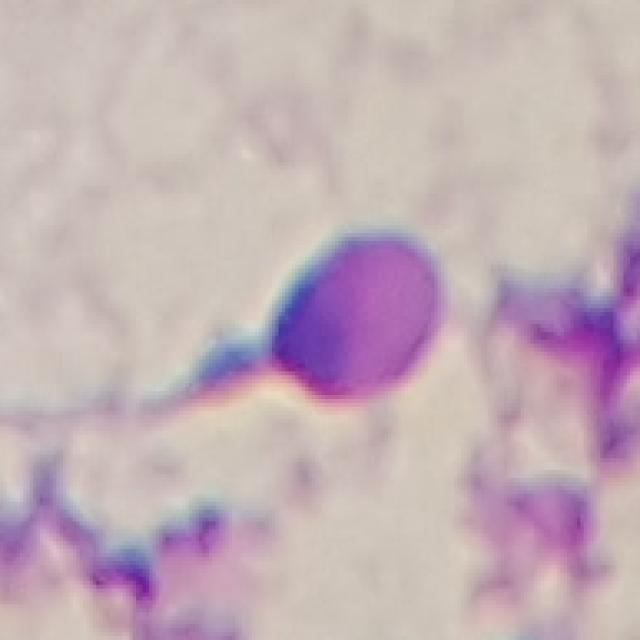normal sperm: (114, 212, 447, 442)
